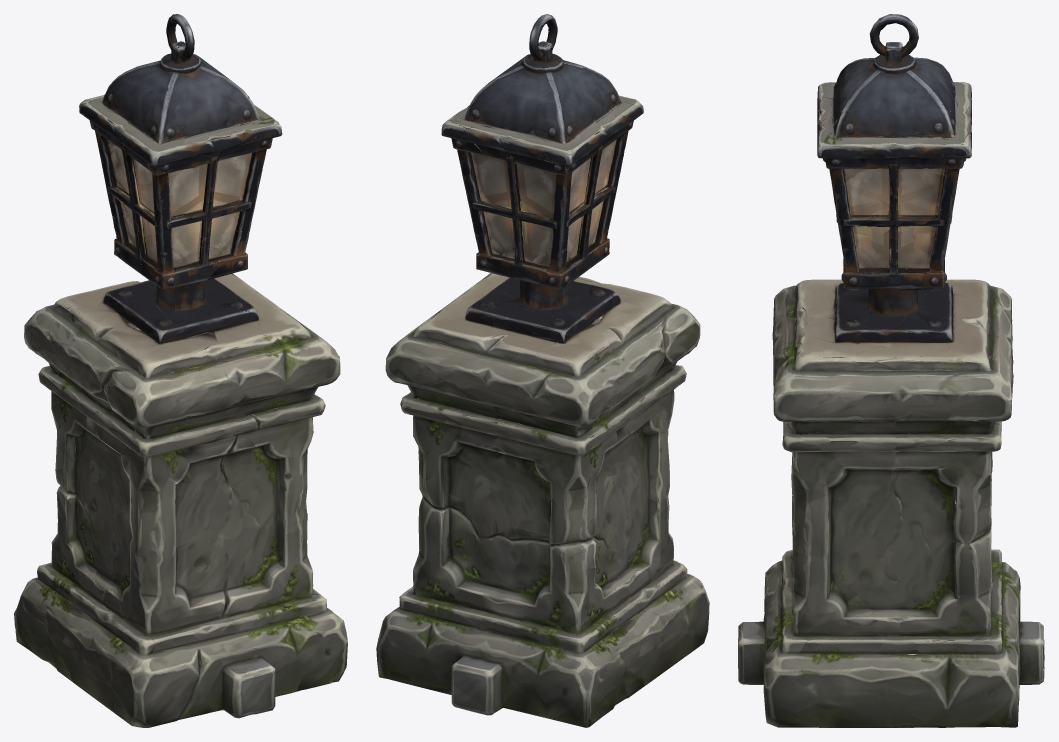
Rendered from M13_BridgeLantern.fbx.
The picture shows the model from 3 angles, left to right: view 1: azimuth 30°, elevation 25°; view 2: azimuth 150°, elevation 25°; view 3: azimuth 270°, elevation 25°; orthographic projection. The views are drawn at different scales.
Visible parts, largest first — view 1: M13_BridgeLantern.140; view 2: M13_BridgeLantern.140; view 3: M13_BridgeLantern.140.
Boxes of the visible parts, x1,y1,x2,y2 form: M13_BridgeLantern.140: (14, 14, 347, 727); M13_BridgeLantern.140: (376, 14, 709, 727); M13_BridgeLantern.140: (738, 14, 1044, 727).
Bounding box in the file's own units: 0.5624 × 1.6 × 0.6731.
1 material, 1 textured.
